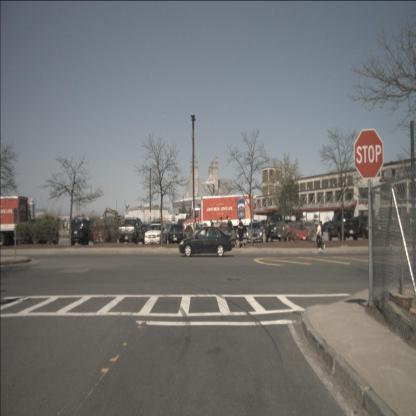human-pedestrian-adult: (316, 220, 325, 250), (235, 218, 244, 248), (318, 221, 324, 249), (227, 217, 232, 248), (219, 217, 224, 246), (209, 218, 214, 245)
vehicle-car: (179, 227, 232, 257), (328, 213, 361, 243), (118, 216, 146, 244), (70, 220, 98, 246), (265, 214, 285, 242), (361, 218, 384, 241), (144, 224, 168, 246), (92, 224, 113, 245), (288, 222, 310, 242), (218, 222, 236, 246), (351, 216, 367, 241), (246, 222, 264, 244), (384, 214, 402, 235), (168, 224, 186, 244), (164, 223, 179, 238), (321, 221, 332, 232), (257, 220, 269, 230)
vehicle-truck: (181, 194, 254, 240), (0, 196, 29, 248)
